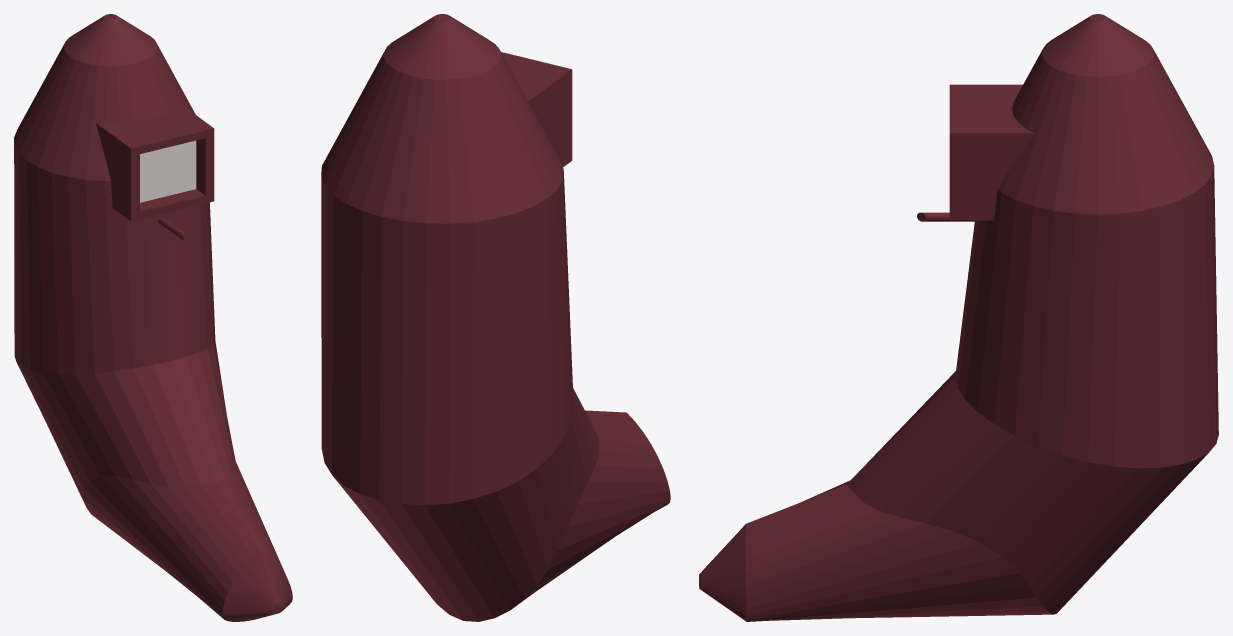
Rendered from BOB4.fbx.
The picture shows the model from 3 angles, left to right: view 1: azimuth 30°, elevation 25°; view 2: azimuth 150°, elevation 25°; view 3: azimuth 270°, elevation 25°; orthographic projection. The views are drawn at different scales.
Parts seen in each view (by area): view 1: Cube; view 2: Cube; view 3: Cube.
Boxes of the visible parts, <box> form: Cube: <box>14,14,292,621</box>; Cube: <box>321,14,670,621</box>; Cube: <box>699,14,1218,621</box>.
Size of the model in its own units: 2 by 5.64 by 4.47.
